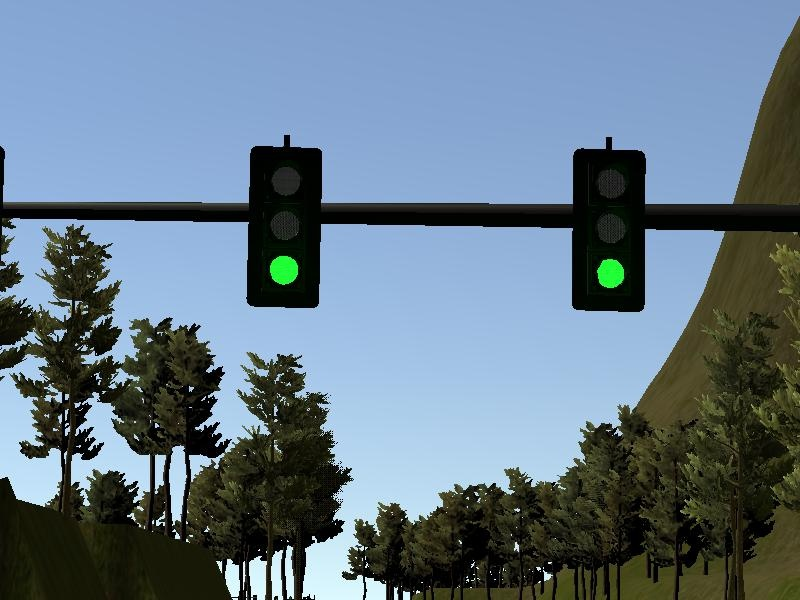green: (247, 147, 322, 309), (572, 150, 645, 312)
